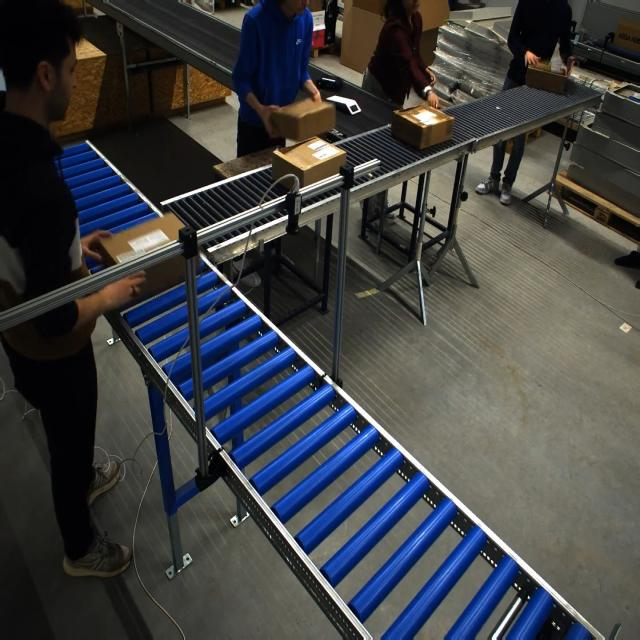box: (95, 213, 189, 291), (271, 138, 340, 193), (391, 104, 453, 151), (269, 97, 331, 143), (525, 58, 570, 94)
